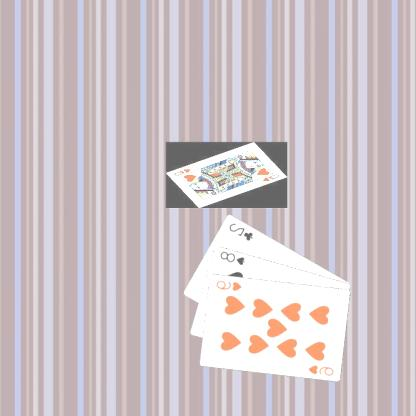2C: (228, 220, 256, 242)
8S: (218, 248, 248, 266)
9H: (215, 278, 245, 292), (306, 362, 336, 376)
